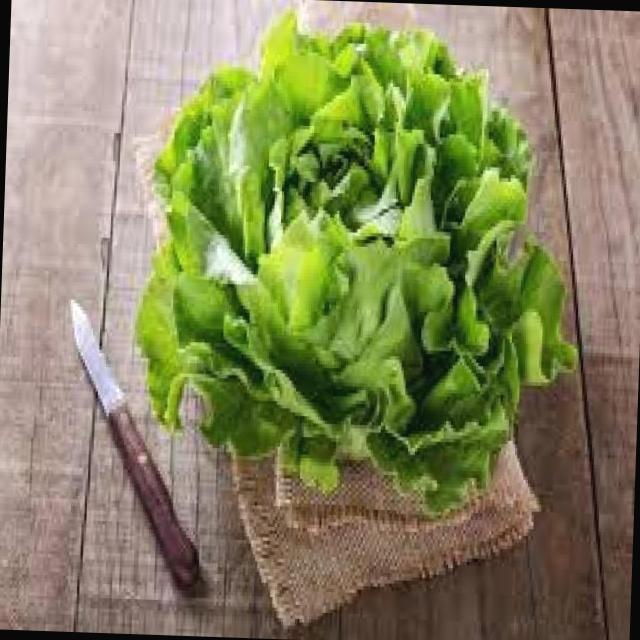Lettuce-Ready-to-Harvest: (137, 12, 570, 508)
